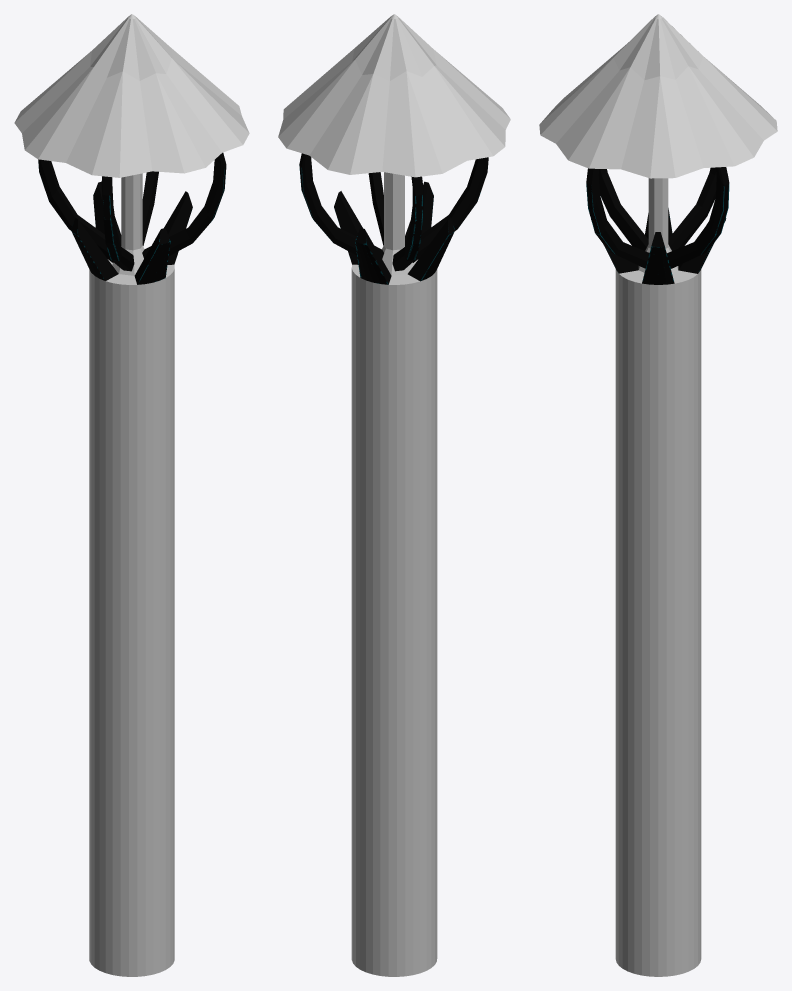
File: tower.obj
3 views of the same model, side by side, from view 1: azimuth 30°, elevation 25°; view 2: azimuth 150°, elevation 25°; view 3: azimuth 270°, elevation 25° (orthographic).
Parts seen in each view (by area): view 1: Main_Body_Cylinder.003, Head_Hat_Cube.004, Handle_Cube.001; view 2: Main_Body_Cylinder.003, Head_Hat_Cube.004, Handle_Cube.001; view 3: Main_Body_Cylinder.003, Head_Hat_Cube.004, Handle_Cube.001.
Part boxes in pixels (x1,y1,x2,y2): Main_Body_Cylinder.003: (89, 173, 174, 976); Head_Hat_Cube.004: (14, 14, 249, 177); Handle_Cube.001: (38, 152, 226, 284); Main_Body_Cylinder.003: (351, 172, 437, 976); Head_Hat_Cube.004: (278, 14, 510, 177); Handle_Cube.001: (299, 153, 488, 284); Main_Body_Cylinder.003: (615, 178, 701, 976); Head_Hat_Cube.004: (539, 14, 777, 178); Handle_Cube.001: (586, 167, 729, 284).
Bounding box in the file's own units: 5.79 × 25.35 × 5.79.
